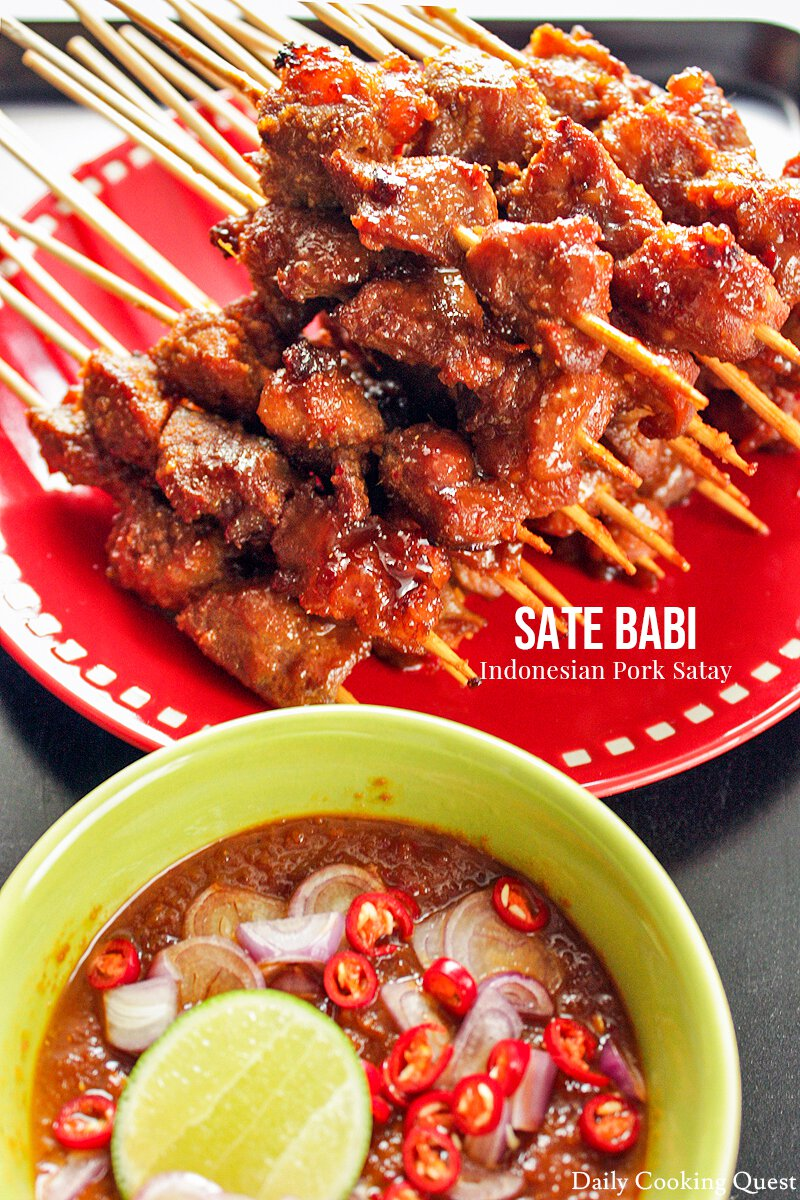sate: (34, 13, 799, 720)
